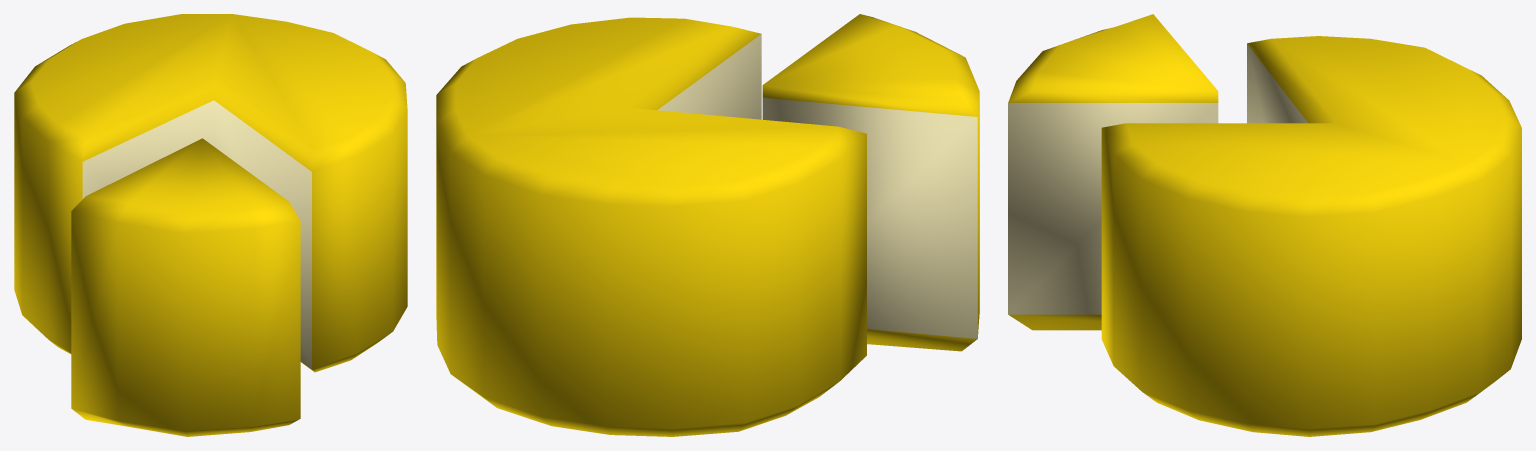
Rendered from Cheese.fbx.
The picture shows the model from 3 angles, left to right: view 1: azimuth 30°, elevation 25°; view 2: azimuth 150°, elevation 25°; view 3: azimuth 270°, elevation 25°; orthographic projection. The views are drawn at different scales.
Visible parts, largest first — view 1: Obj_Cheese; view 2: Obj_Cheese; view 3: Obj_Cheese.
Part boxes in pixels (x1,y1,x2,y2): Obj_Cheese: (14,14,407,436); Obj_Cheese: (436,14,979,436); Obj_Cheese: (1008,14,1521,436).
Bounding box in the file's own units: 611 × 570 × 320.
